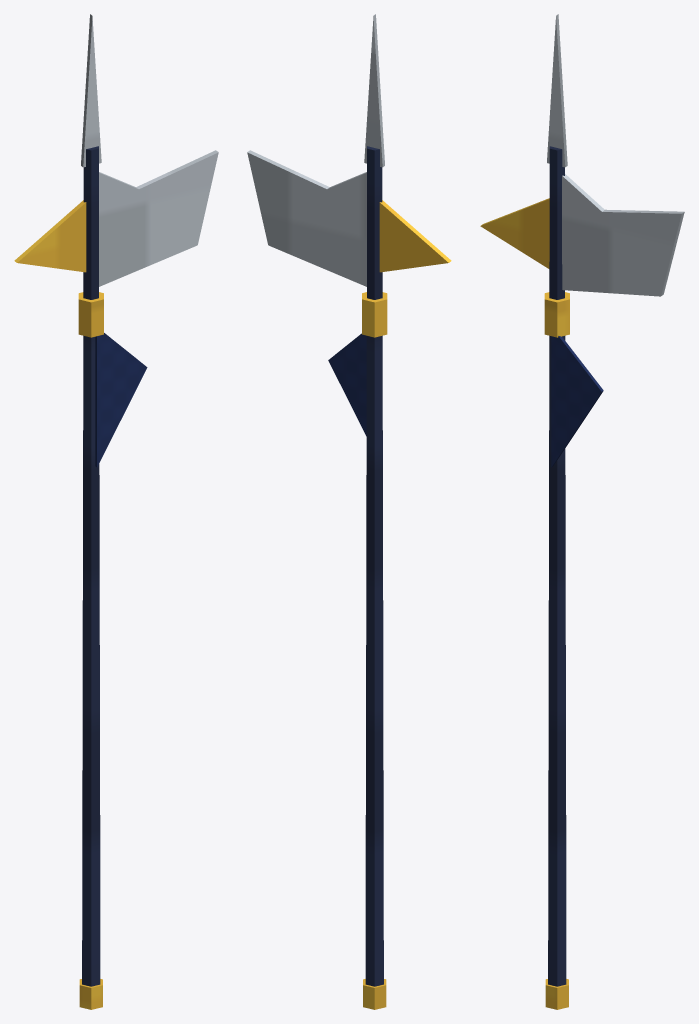
File: SM_Prop_ArmadaHalberd_HQ.glb
3 renders of one model, left to right at view 1: azimuth 30°, elevation 25°; view 2: azimuth 150°, elevation 25°; view 3: azimuth 330°, elevation 25°, orthographic.
Parts seen in each view (by area): view 1: SM_Prop_ArmadaHalberd_HQ; view 2: SM_Prop_ArmadaHalberd_HQ; view 3: SM_Prop_ArmadaHalberd_HQ.
Part boxes in pixels (bbox=[...]): SM_Prop_ArmadaHalberd_HQ: bbox=[14, 14, 218, 1009]; SM_Prop_ArmadaHalberd_HQ: bbox=[247, 14, 451, 1009]; SM_Prop_ArmadaHalberd_HQ: bbox=[480, 14, 684, 1009].
Bounding box in the file's own units: 0.48 × 2.25 × 0.052.
Materials: 1 (1 with a texture image).
